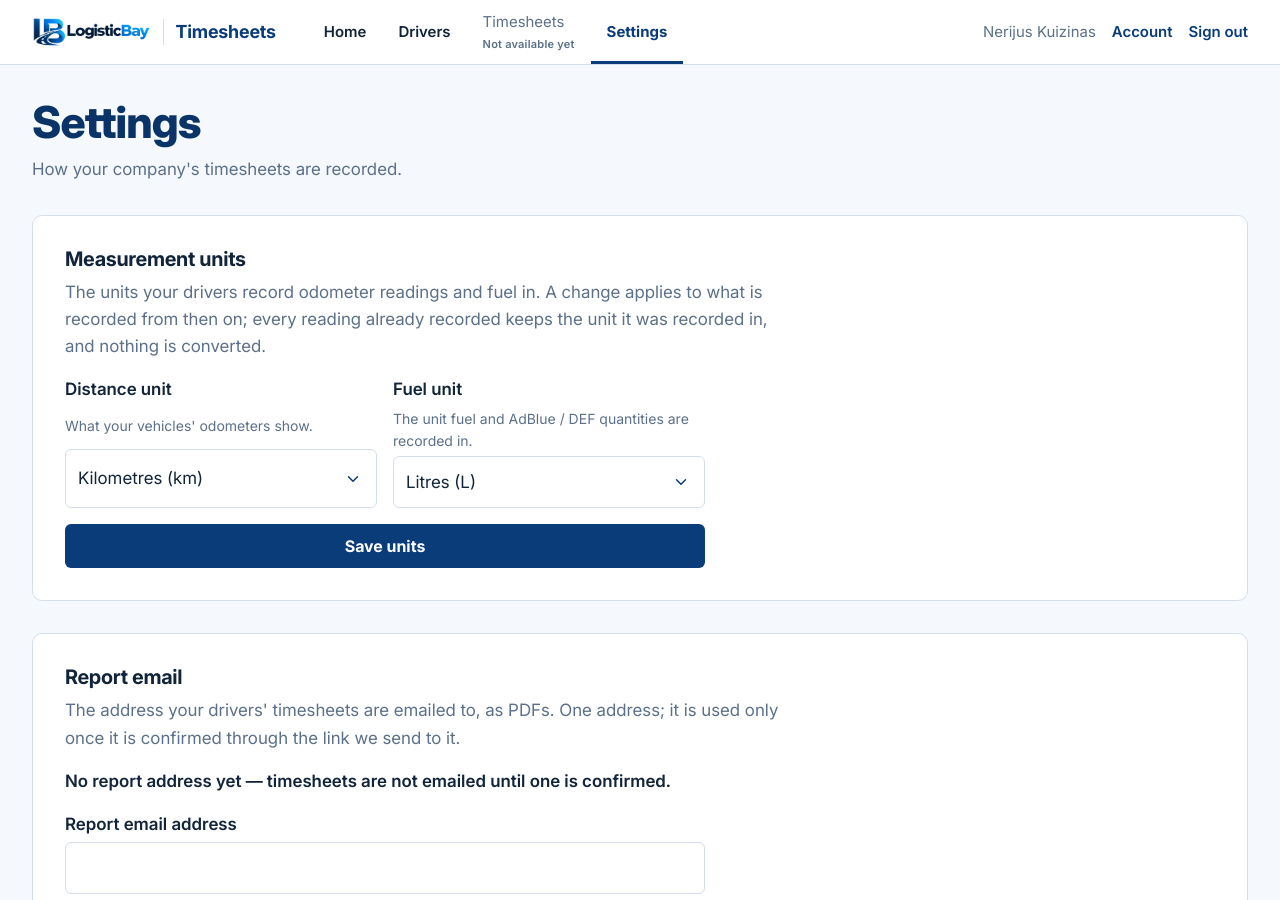
Test: Settings (D66) › ST2. the company's units are shown as chosen, and changing them sends both — and only both — and says what a change means
Expected: the heading "Settings" is shown, [32,95,201,149]
Expected: the dropdown labelled "Fuel unit" shows "Litres (L)", [393,456,705,508]
Select "Miles (mi)" in the dropdown labelled "Distance unit" at (221, 479), box [65,449,377,508]
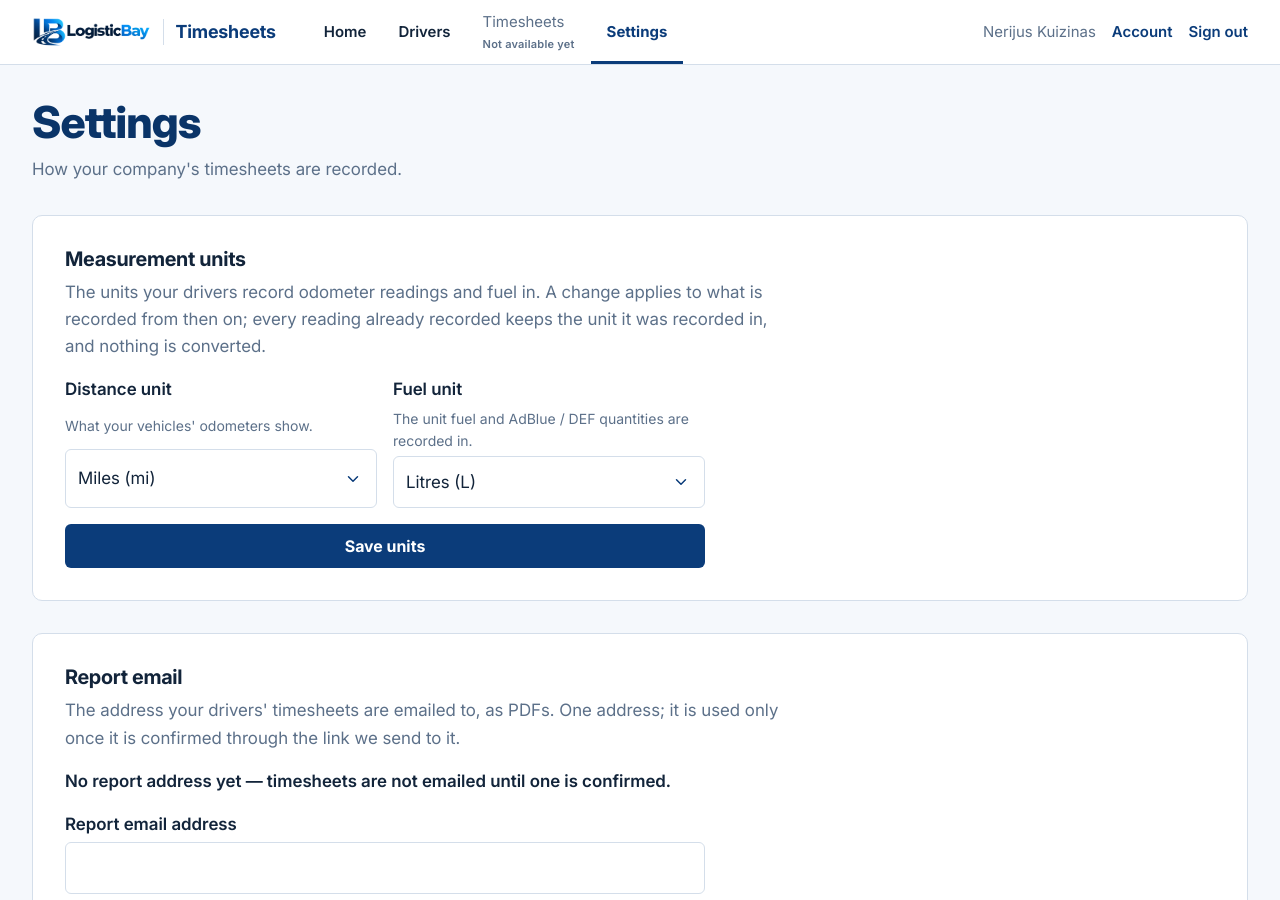
Select "Imperial gallons (imp gal)" in the dropdown labelled "Fuel unit" at (549, 482), box [393,456,705,508]
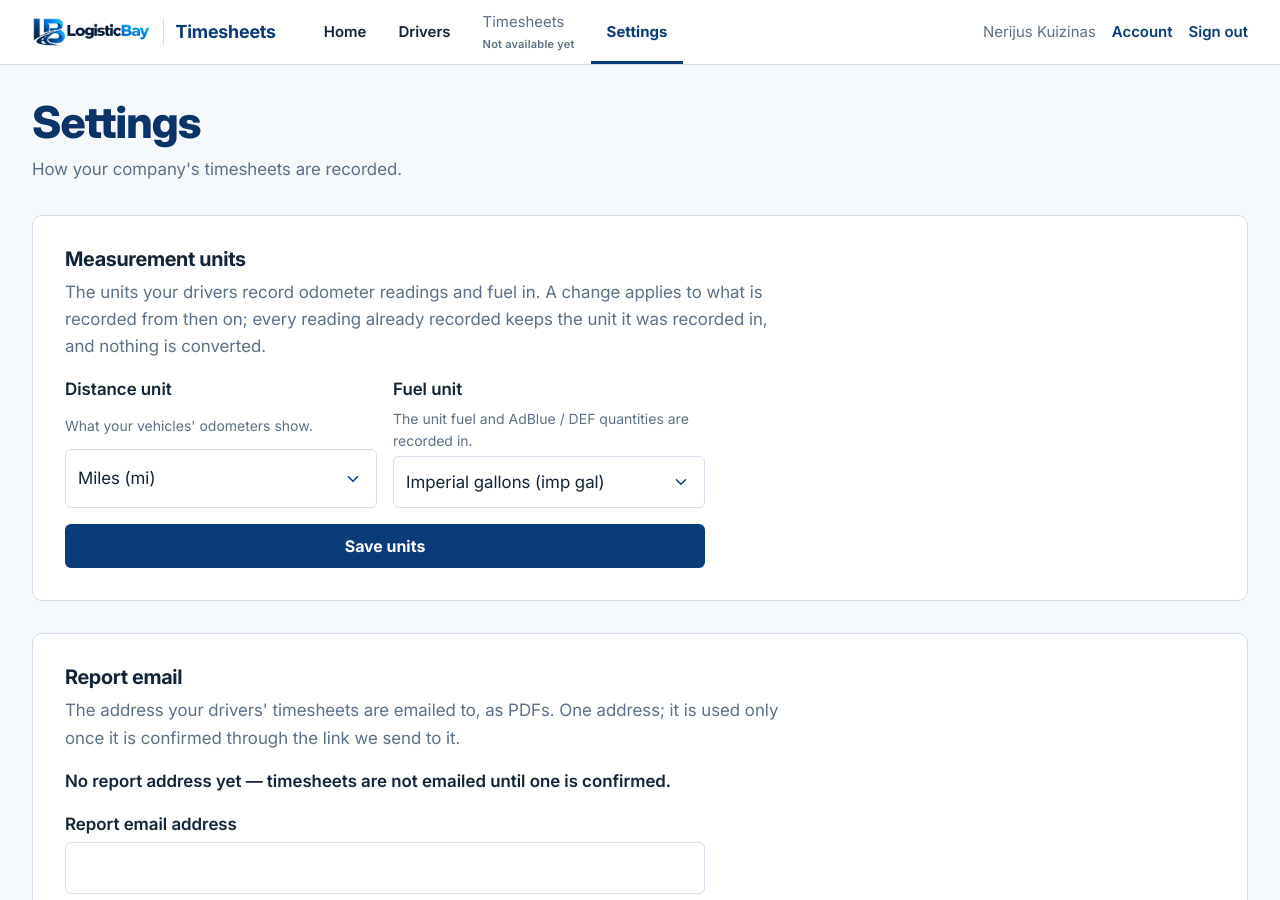
Click the button "Save units" at (385, 546), box [65,524,705,568]
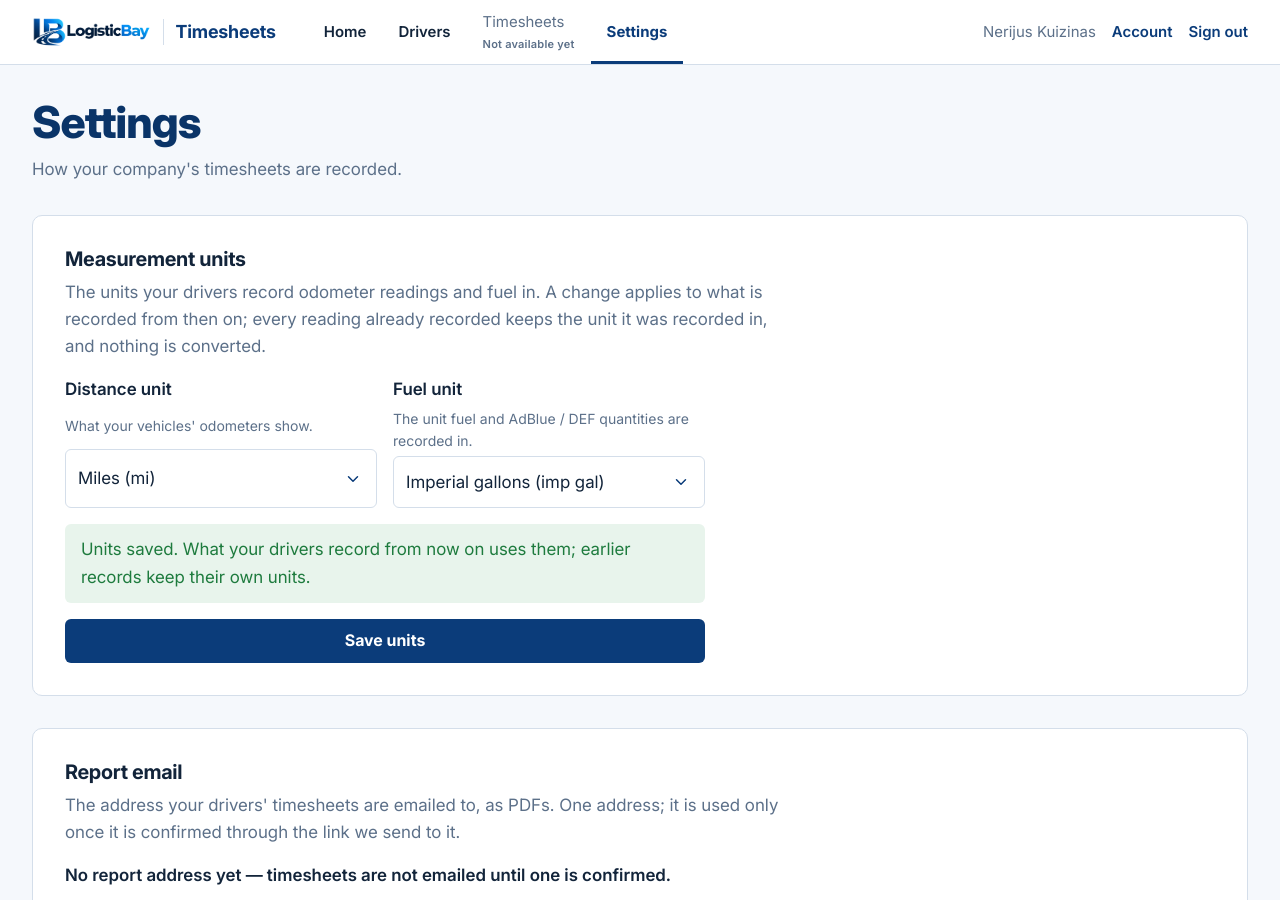
Result: the message shows "Units saved" at [81,539,630,586]
Result: the message shows "earlier records keep their own units" at [81,539,630,586]
